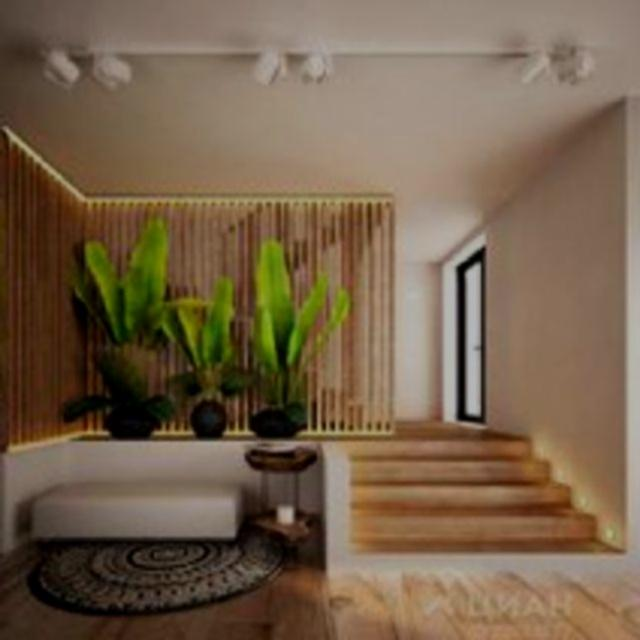stair: (301, 380, 637, 577)
